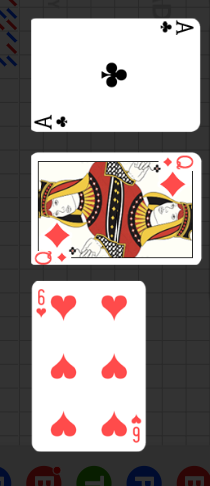6H: (35, 288, 48, 319), (129, 413, 142, 444)
AC: (33, 113, 71, 130)
QD: (31, 208, 78, 252), (152, 141, 198, 185)
